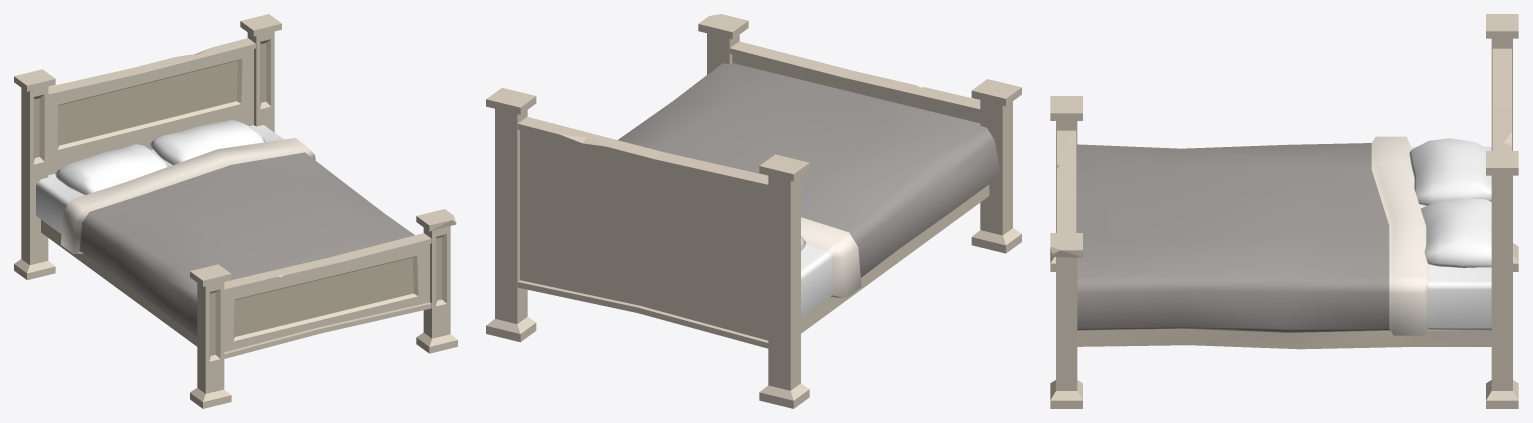
File: SM_Prop_Bed_Double_03_wet.obj
3 renders of one model, left to right at view 1: azimuth 30°, elevation 25°; view 2: azimuth 150°, elevation 25°; view 3: azimuth 270°, elevation 25°, orthographic. The views are drawn at different scales.
Parts seen in each view (by area): view 1: SM_Prop_Bed_Double_03_wet_Mat_SwatchOverlay_PolygonTown_01_Inst-; view 2: SM_Prop_Bed_Double_03_wet_Mat_SwatchOverlay_PolygonTown_01_Inst-; view 3: SM_Prop_Bed_Double_03_wet_Mat_SwatchOverlay_PolygonTown_01_Inst-.
Part boxes in pixels (x1=…): SM_Prop_Bed_Double_03_wet_Mat_SwatchOverlay_PolygonTown_01_Inst-: x1=14, y1=14, x2=457, y2=408; SM_Prop_Bed_Double_03_wet_Mat_SwatchOverlay_PolygonTown_01_Inst-: x1=486, y1=14, x2=1021, y2=408; SM_Prop_Bed_Double_03_wet_Mat_SwatchOverlay_PolygonTown_01_Inst-: x1=1050, y1=14, x2=1518, y2=408.
Bounding box in the file's own units: 2.08 × 1.52 × 2.67.
Materials: 1 (1 with a texture image).
